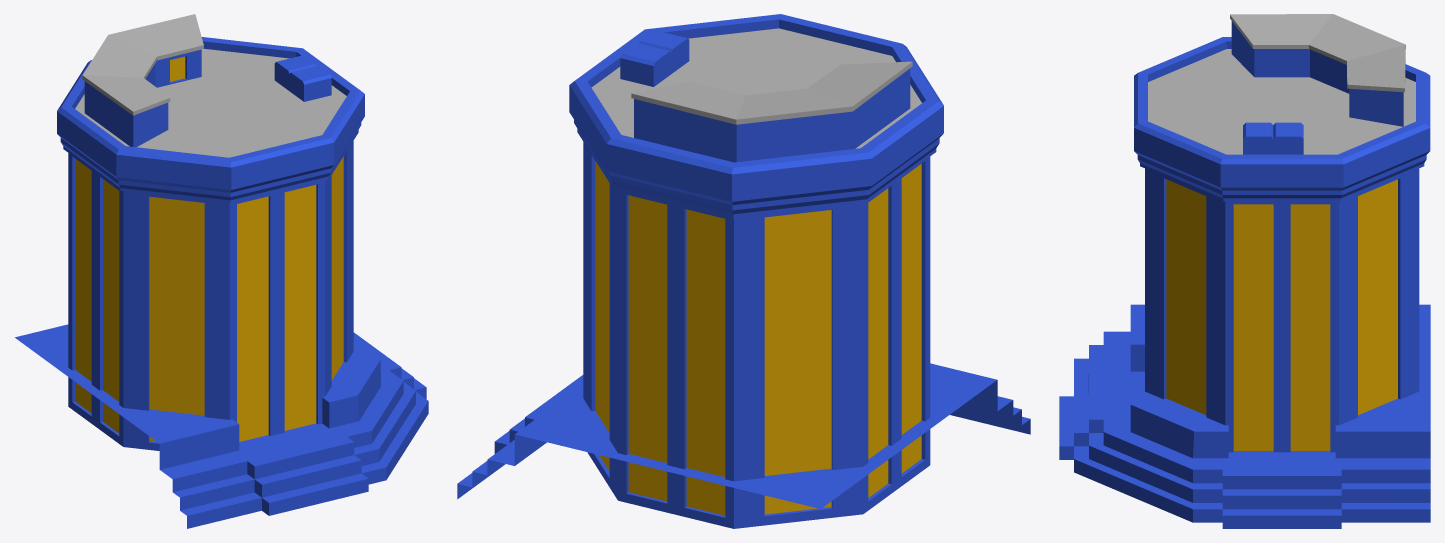
Rendered from Building2.fbx.
The picture shows the model from 3 angles, left to right: view 1: azimuth 30°, elevation 25°; view 2: azimuth 150°, elevation 25°; view 3: azimuth 270°, elevation 25°; orthographic projection. The views are drawn at different scales.
Parts seen in each view (by area): view 1: Tower 2, Roof 2, Base 2; view 2: Tower 2, Roof 2, Base 2; view 3: Tower 2, Roof 2, Base 2.
Part boxes in pixels (<box>): Tower 2: <box>68,141,353,450</box>; Roof 2: <box>57,14,364,203</box>; Base 2: <box>15,324,428,528</box>; Tower 2: <box>583,142,930,528</box>; Roof 2: <box>569,14,943,217</box>; Base 2: <box>457,363,1030,508</box>; Tower 2: <box>1145,168,1419,452</box>; Roof 2: <box>1134,14,1430,201</box>; Base 2: <box>1059,304,1430,528</box>.
Bounding box in the file's own units: 125 × 137 × 125.
